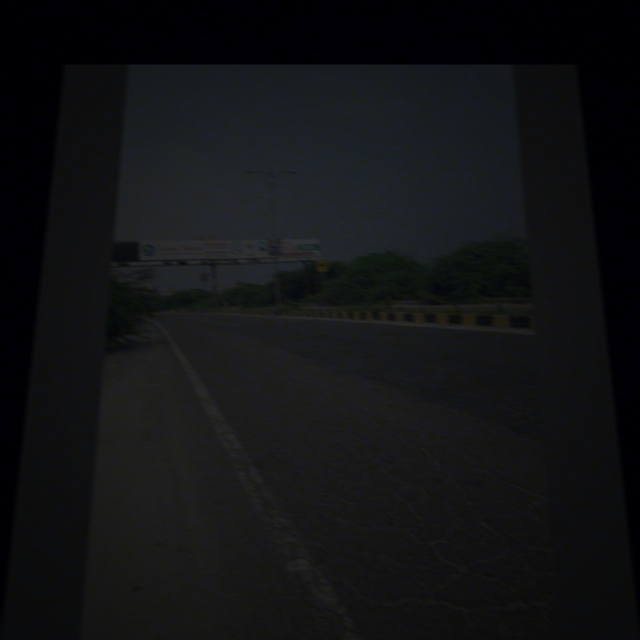Cattle: (313, 256, 331, 272)
